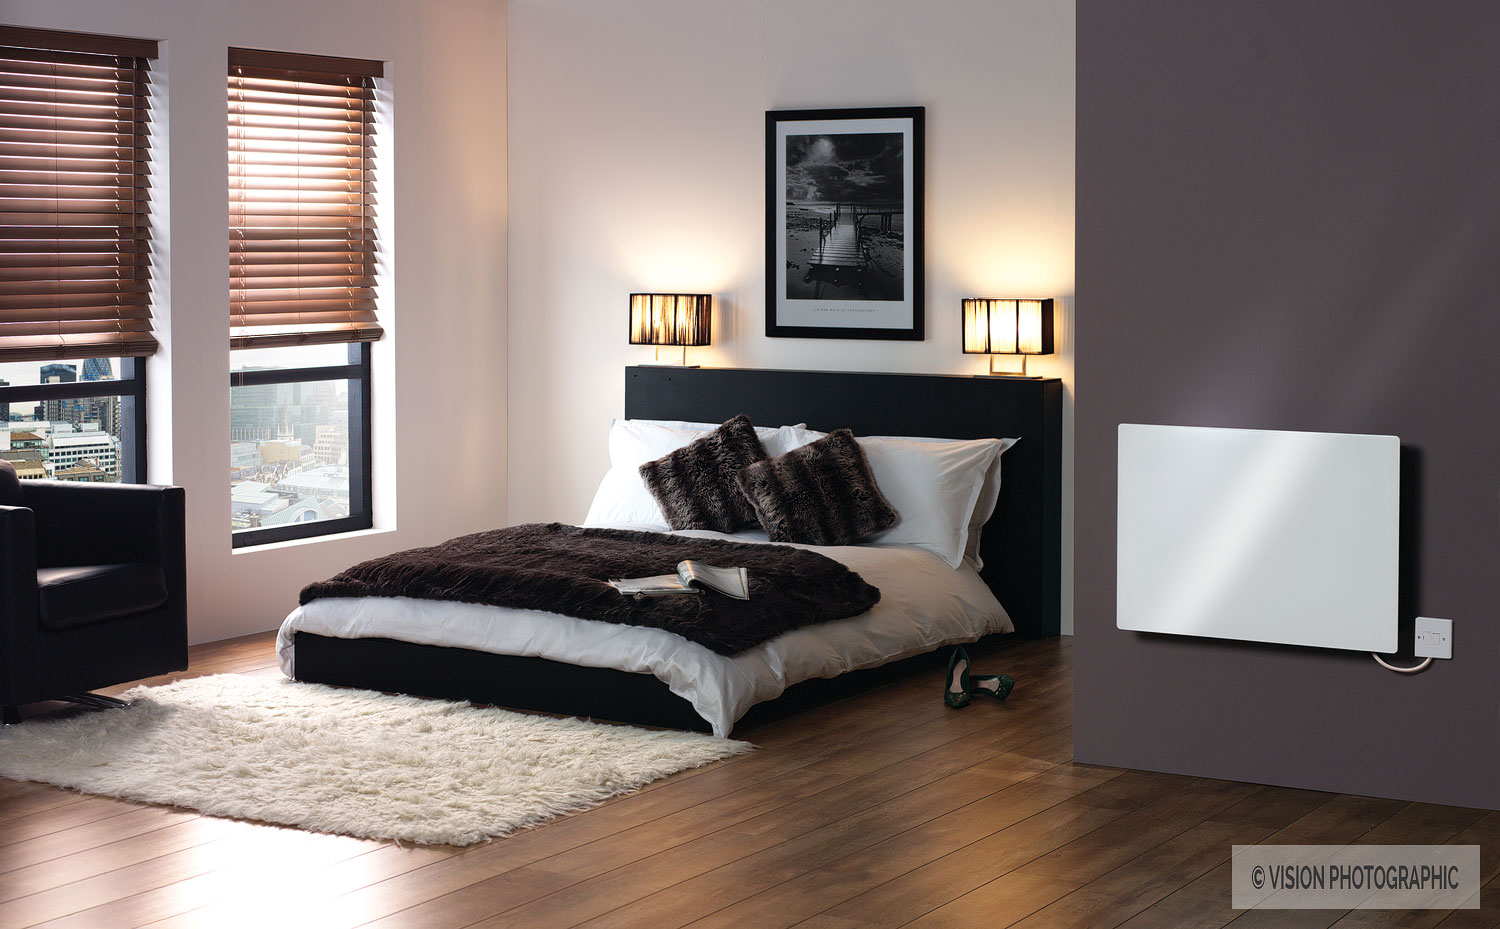chair: (5, 471, 186, 698)
